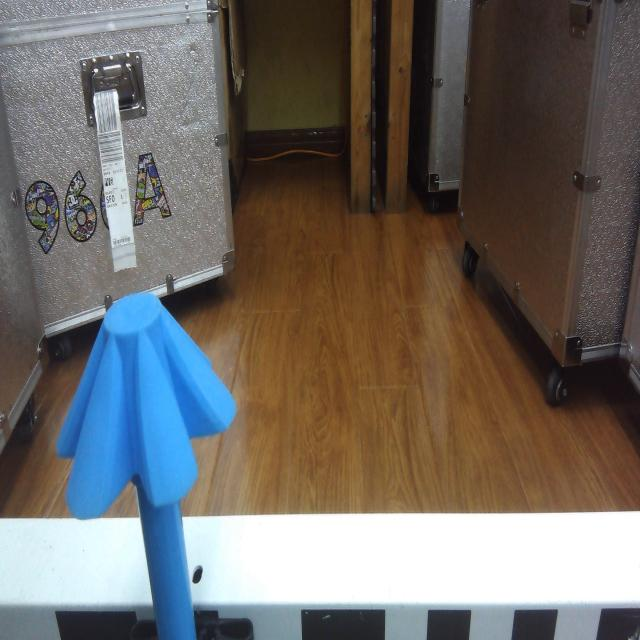zblue-Stake-Head: (57, 292, 236, 521)
